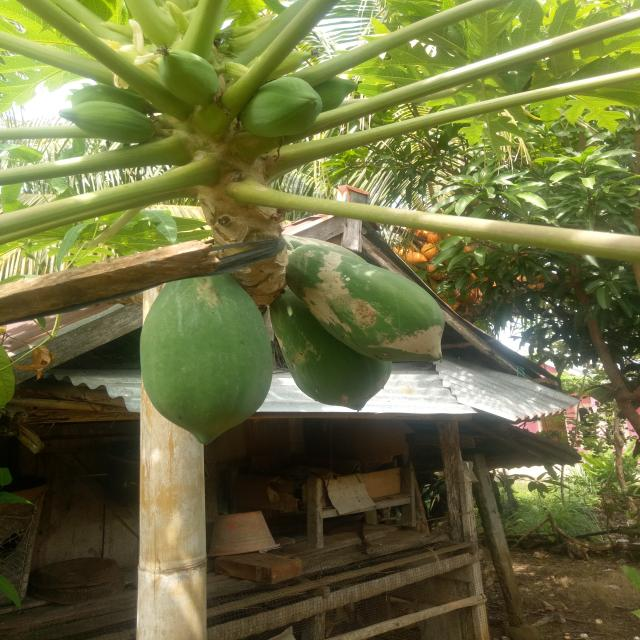Pepaya unrippen: (138, 278, 278, 444), (285, 242, 450, 370), (265, 308, 395, 415)
